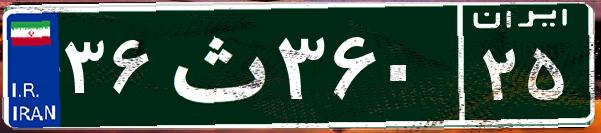0: (385, 28, 445, 110)
2: (475, 38, 525, 113)
3: (273, 28, 330, 110), (57, 26, 110, 107)
5: (525, 38, 570, 115)
6: (330, 28, 385, 110), (110, 28, 158, 105)
ث: (158, 15, 273, 115)
